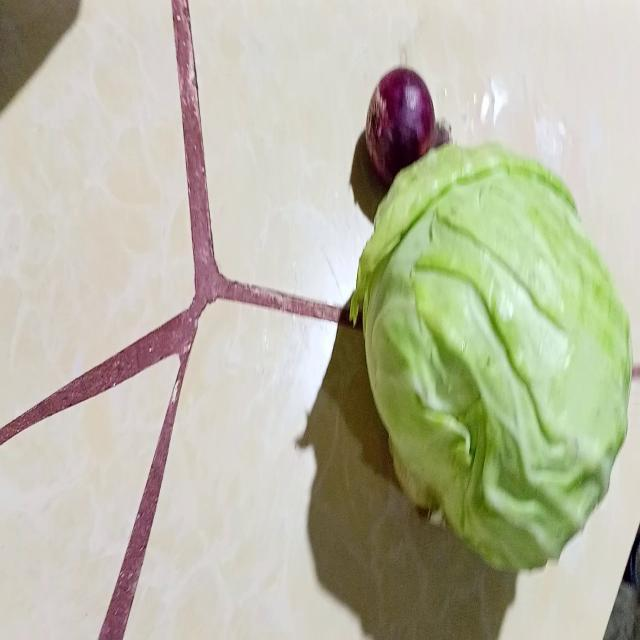cabbage: (346, 144, 633, 575)
onion: (362, 66, 452, 185)
